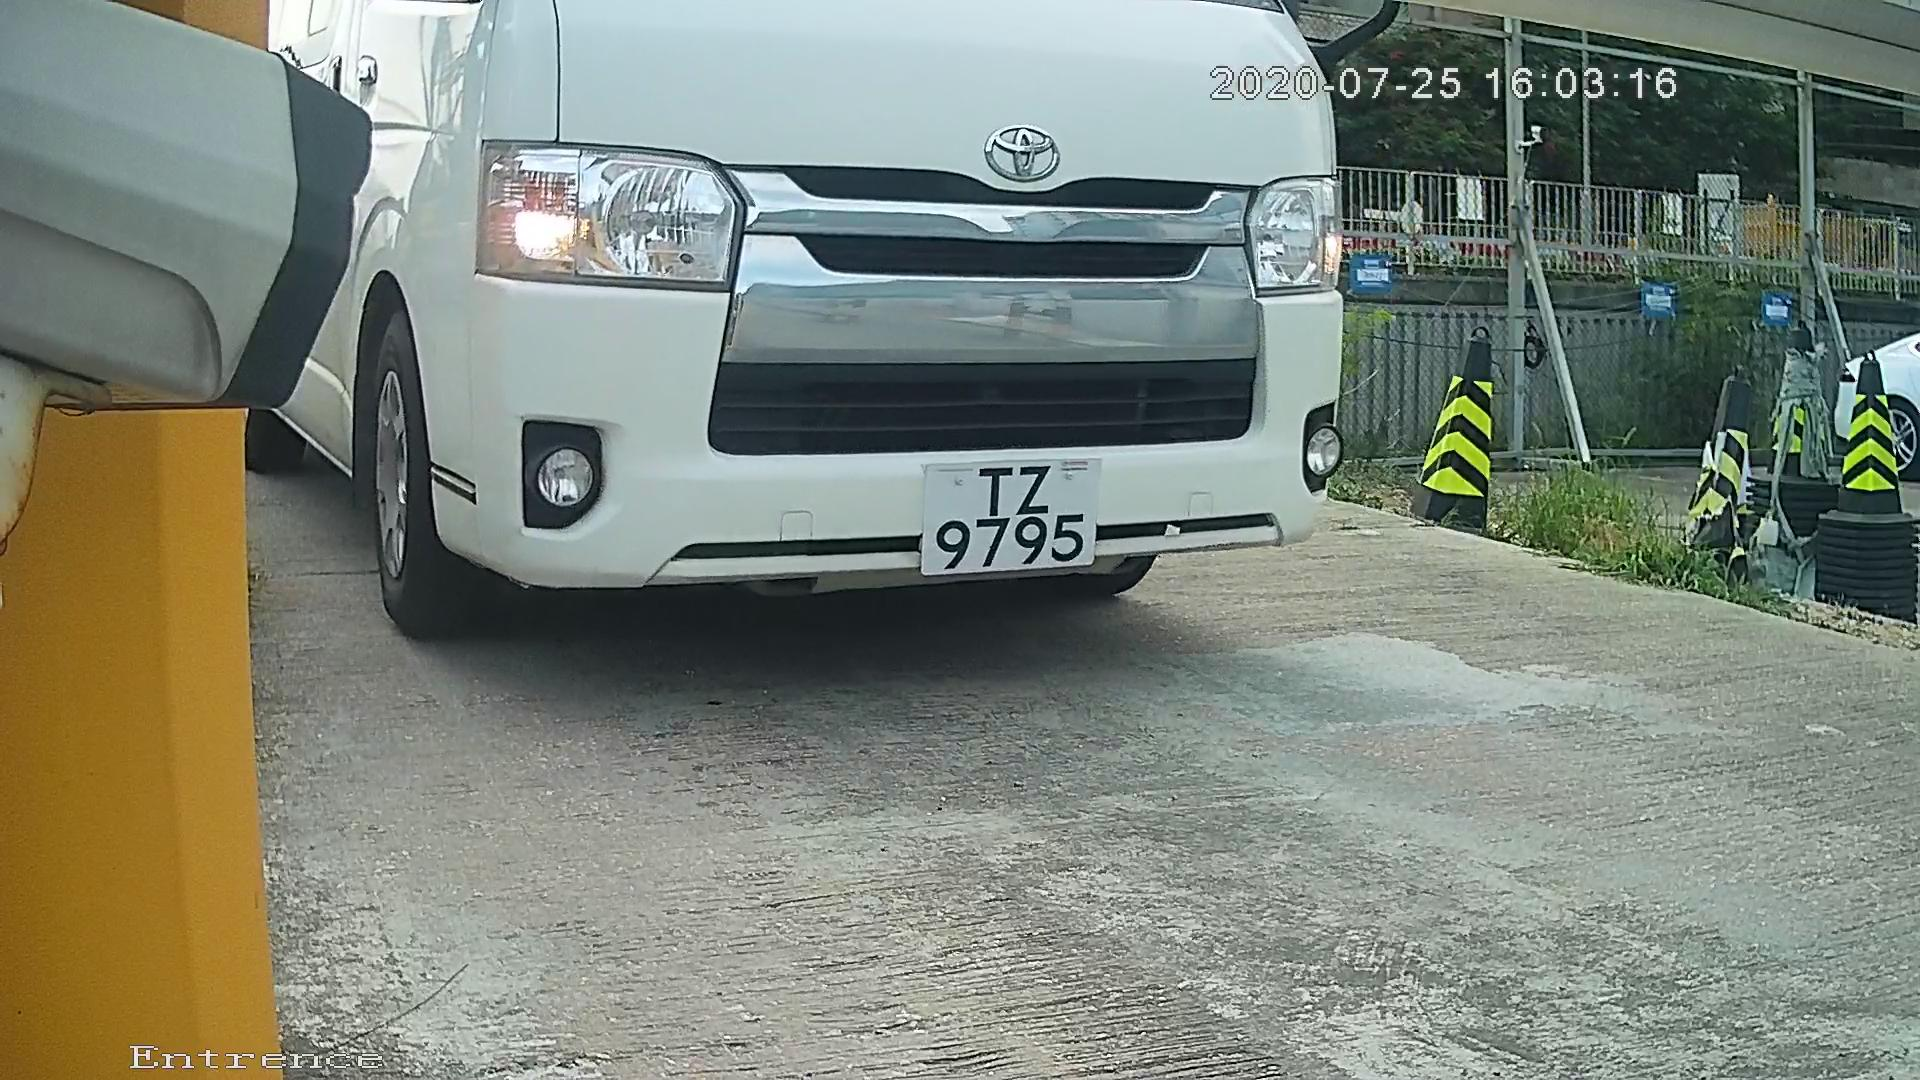License Plate: (901, 459, 1123, 589)
